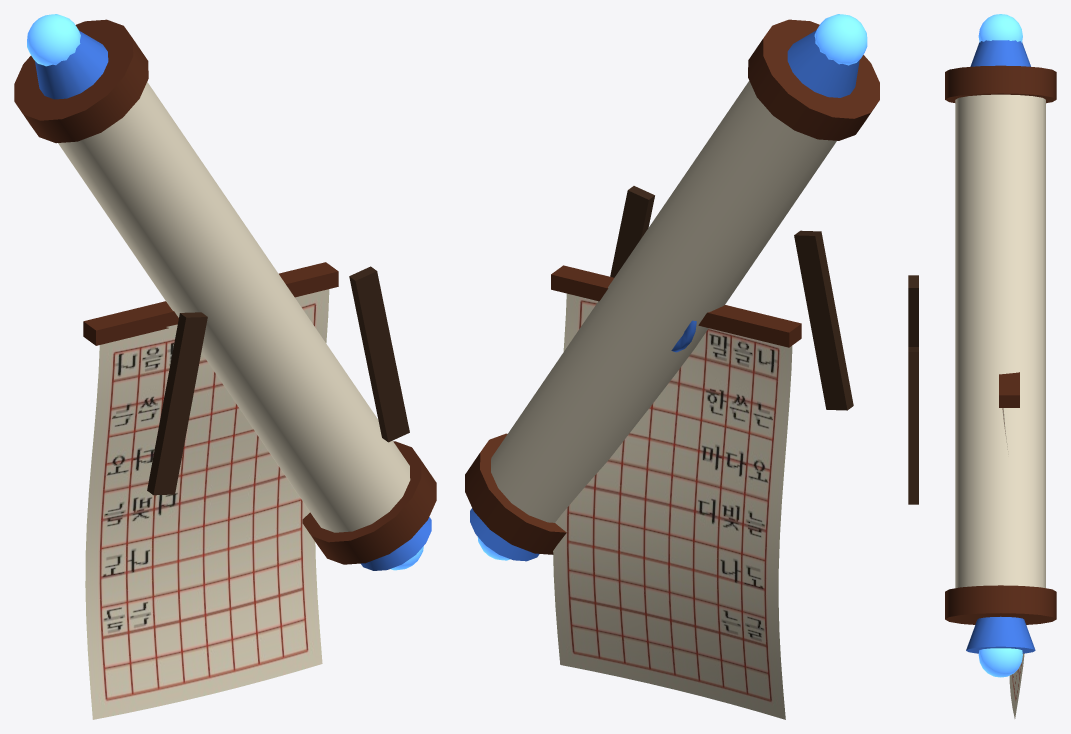
The model's file is back_eqko1.glb.
The picture shows the model from 3 angles, left to right: view 1: azimuth 30°, elevation 25°; view 2: azimuth 150°, elevation 25°; view 3: azimuth 270°, elevation 25°; orthographic projection. The views are drawn at different scales.
Bounding box in the file's own units: 2.2 × 3.75 × 0.85.
8 materials, 1 textured.
